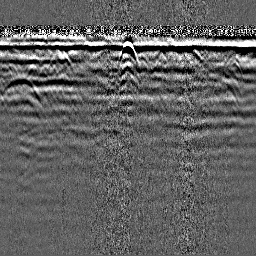cavity: (115, 39, 140, 69)
